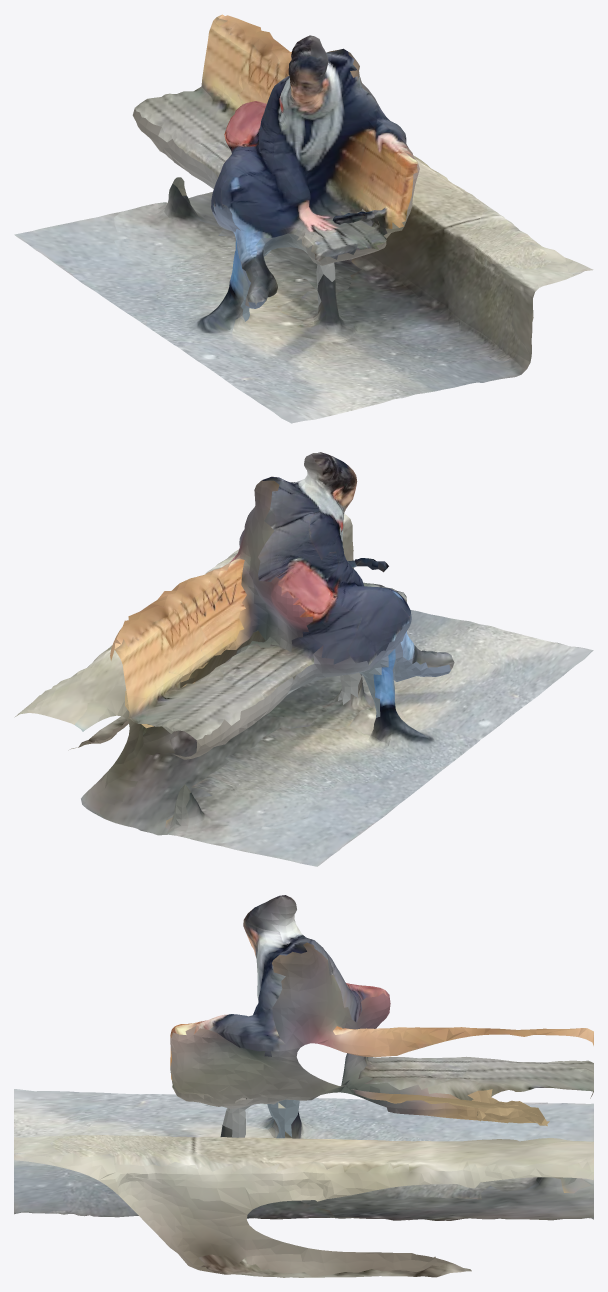
The model's file is S004_RepairedBench.glb.
The picture shows the model from 3 angles, top to bottom: view 1: azimuth 30°, elevation 25°; view 2: azimuth 150°, elevation 25°; view 3: azimuth 270°, elevation 25°; orthographic projection. The views are drawn at different scales.
Parts seen in each view (by area): view 1: Object_4; view 2: Object_4; view 3: Object_4.
Part boxes in pixels (x1,y1,x2,y2): Object_4: (14, 14, 593, 423); Object_4: (14, 452, 593, 866); Object_4: (14, 895, 593, 1277).
Bounding box in the file's own units: 1.58 × 1.35 × 2.41.
1 material, 1 textured.
